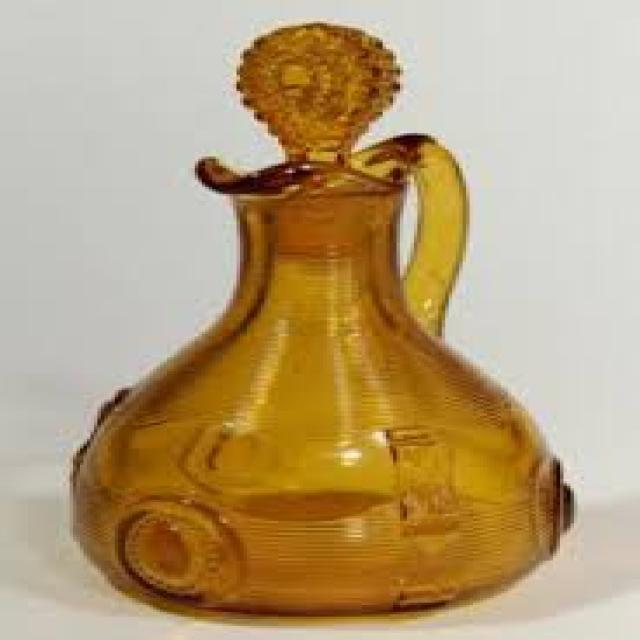Glass: (59, 21, 574, 622)
